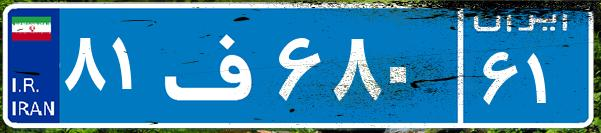0: (385, 28, 445, 110)
1: (110, 28, 158, 105), (525, 38, 570, 115)
6: (273, 28, 330, 110), (475, 38, 525, 113)
8: (330, 28, 385, 110), (57, 26, 110, 107)
ف: (158, 15, 273, 115)
